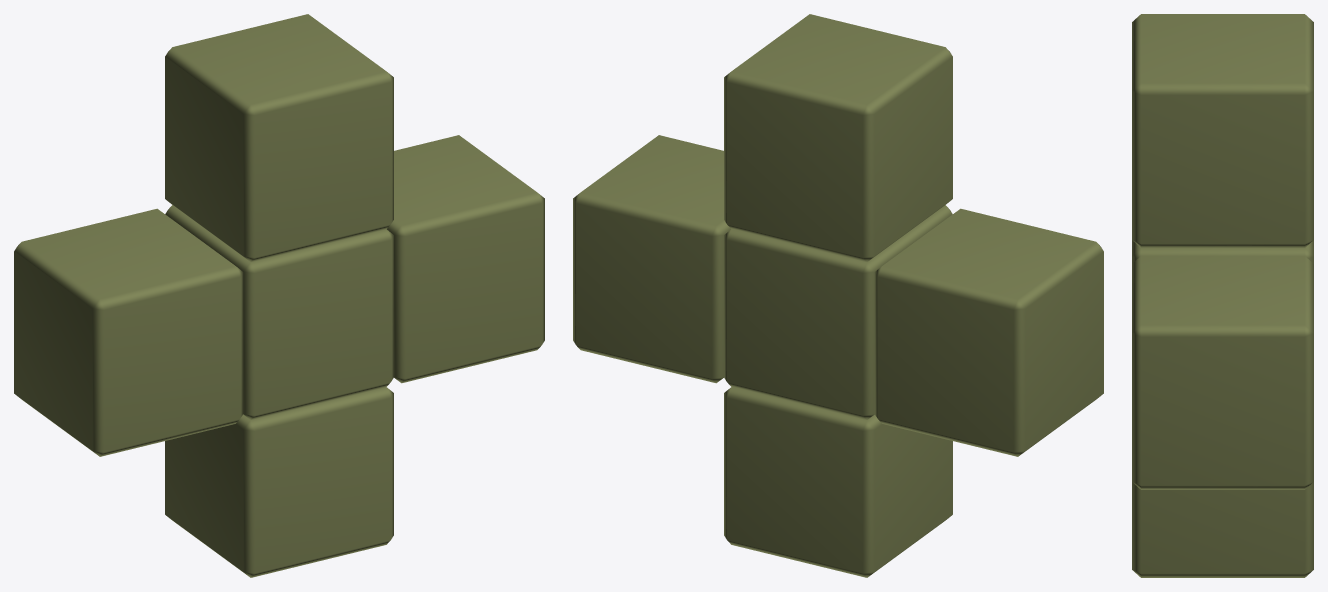
Rendered from FinEarth1.fbx.
The picture shows the model from 3 angles, left to right: view 1: azimuth 30°, elevation 25°; view 2: azimuth 150°, elevation 25°; view 3: azimuth 270°, elevation 25°; orthographic projection. The views are drawn at different scales.
Visible parts, largest first — view 1: geo1; view 2: geo1; view 3: geo1.
Part boxes in pixels (<box>): geo1: <box>14,14,544,577</box>; geo1: <box>573,14,1103,577</box>; geo1: <box>1132,14,1313,577</box>.
Size of the model in its own units: 3 by 3 by 1.
